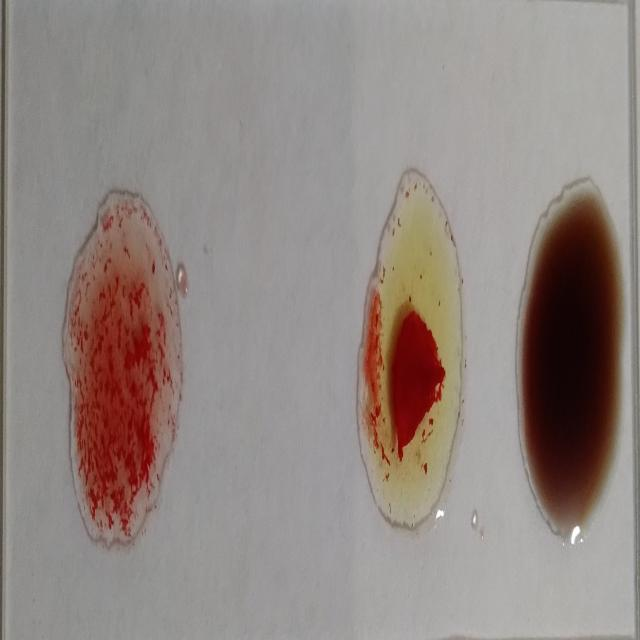B: (353, 167, 463, 531)
D: (59, 188, 184, 550)
